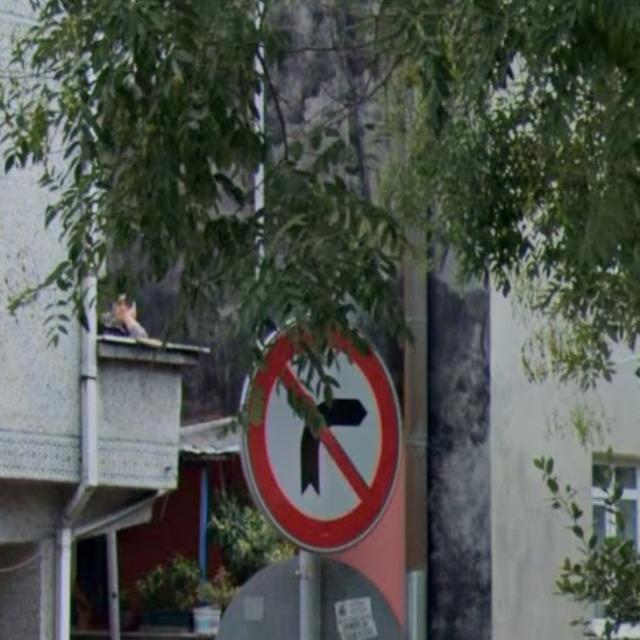sagadonulmez: (240, 314, 401, 552)
